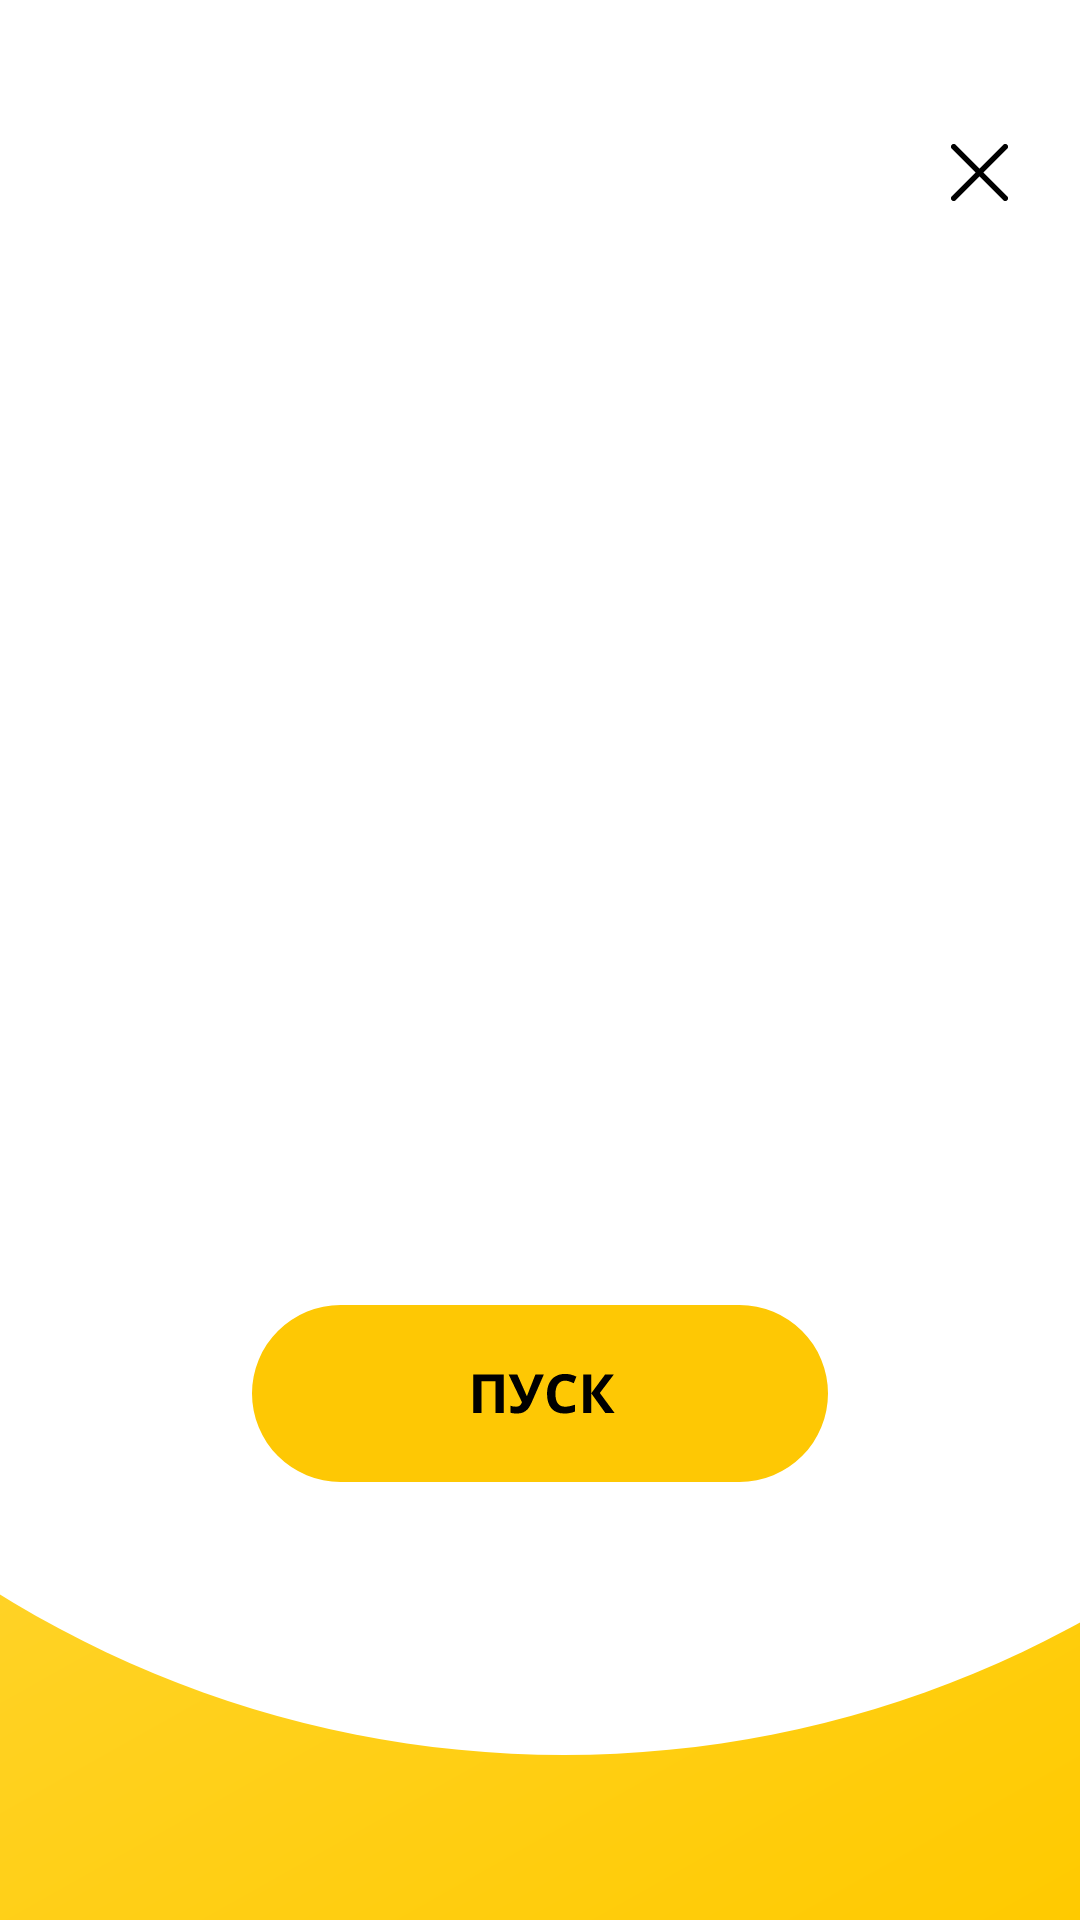

Named icons in this screenshot (1080px x 1920px) and their centers, [x,y]:
exit: [979,172]
